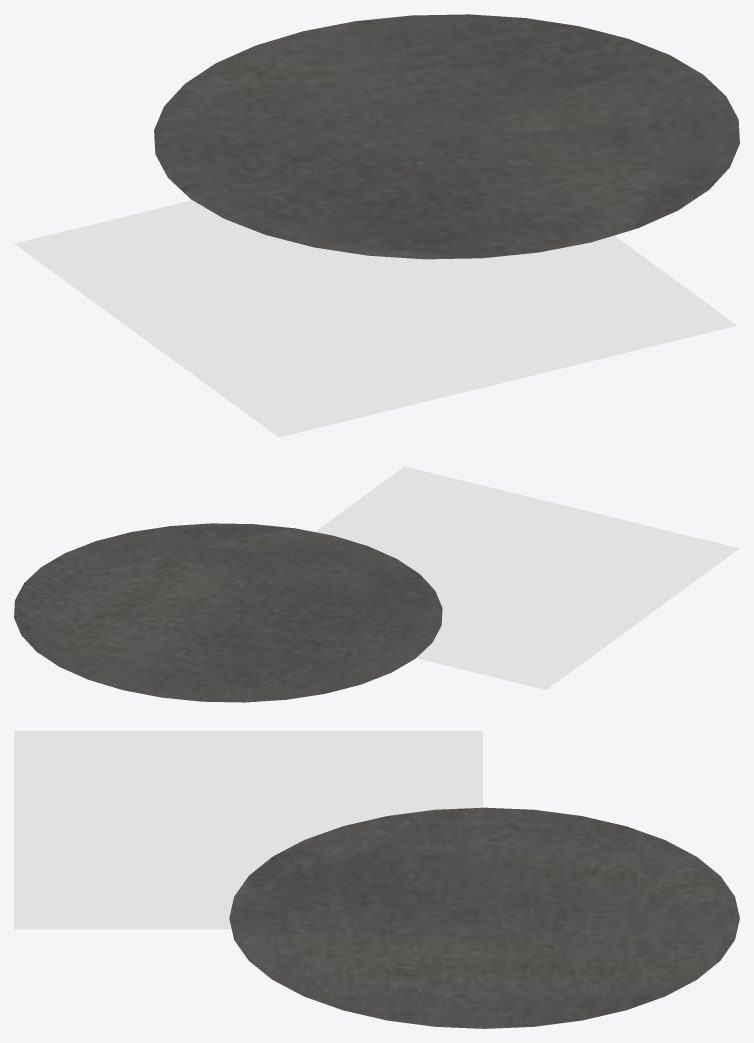
File: Linie.dae
3 renders of one model, top to bottom at view 1: azimuth 30°, elevation 25°; view 2: azimuth 150°, elevation 25°; view 3: azimuth 270°, elevation 25°, orthographic. The views are drawn at different scales.
Parts seen in each view (by area): view 1: Cylinder, Plane; view 2: Cylinder, Plane; view 3: Cylinder, Plane.
Part boxes in pixels (x1,y1,x2,y2): Cylinder: [154, 14, 739, 259]; Plane: [14, 200, 736, 437]; Cylinder: [14, 523, 442, 702]; Plane: [315, 466, 739, 689]; Cylinder: [229, 807, 739, 1028]; Plane: [14, 731, 482, 929].
Size of the model in its own units: 15.52 by 15.97 by 0.00622.
Materials: 2 (1 with a texture image).
